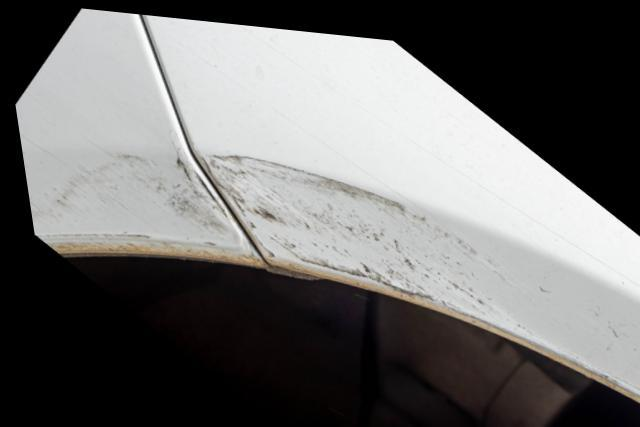scratch: (193, 145, 548, 333), (23, 130, 261, 262)
